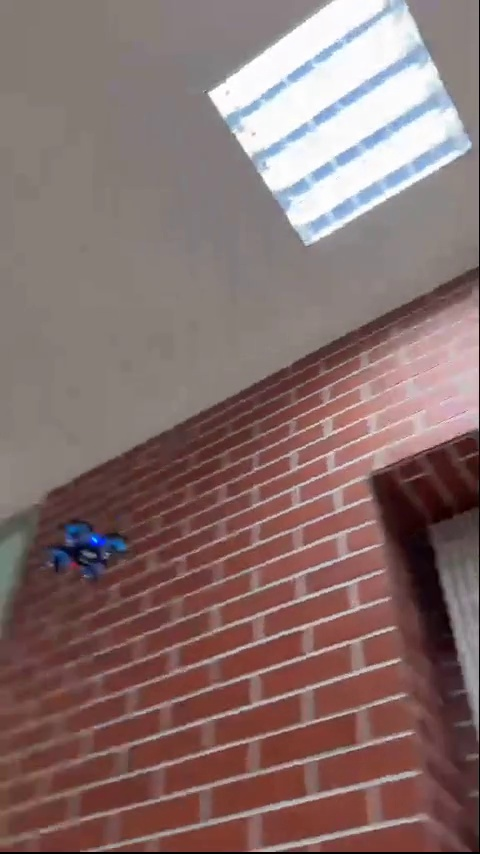drone: (42, 517, 132, 584)
